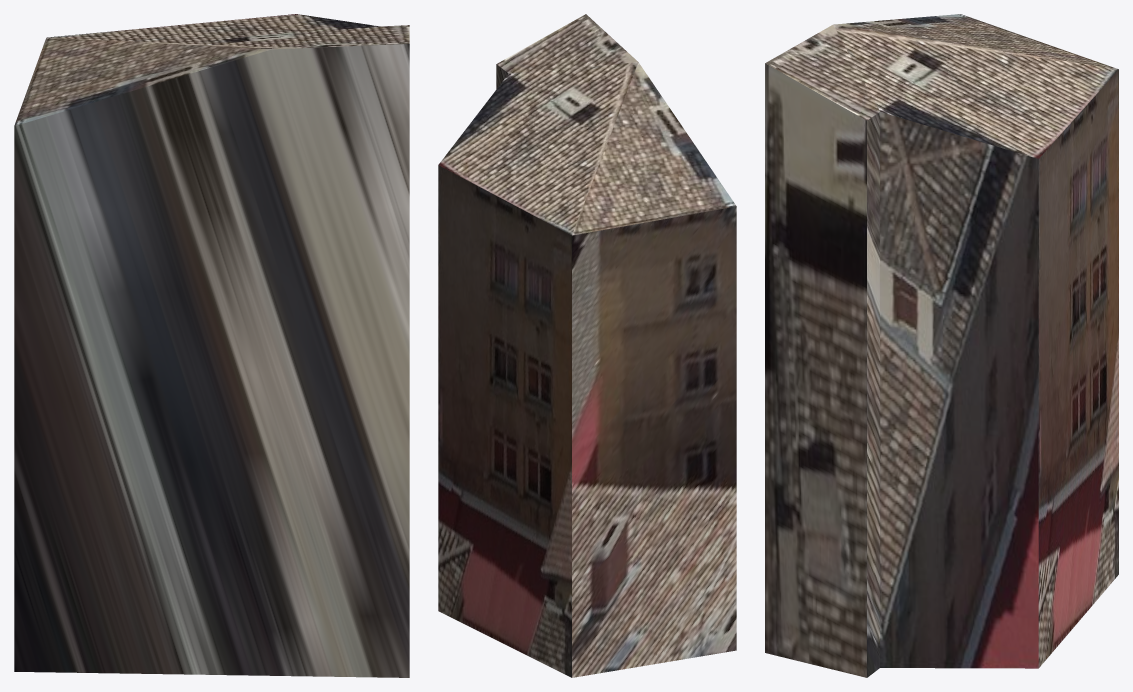
The picture shows the model from 3 angles, left to right: view 1: azimuth 30°, elevation 25°; view 2: azimuth 150°, elevation 25°; view 3: azimuth 270°, elevation 25°; orthographic projection. The views are drawn at different scales.
Visible parts, largest first — view 1: Z_UP; view 2: Z_UP; view 3: Z_UP.
Part boxes in pixels (box(x1,y1,x2,y2)): Z_UP: box(14, 14, 409, 677); Z_UP: box(438, 14, 736, 677); Z_UP: box(765, 14, 1118, 677).
Bounding box in the file's own units: 11.47 × 20.11 × 10.94.
2 materials, 1 textured.
